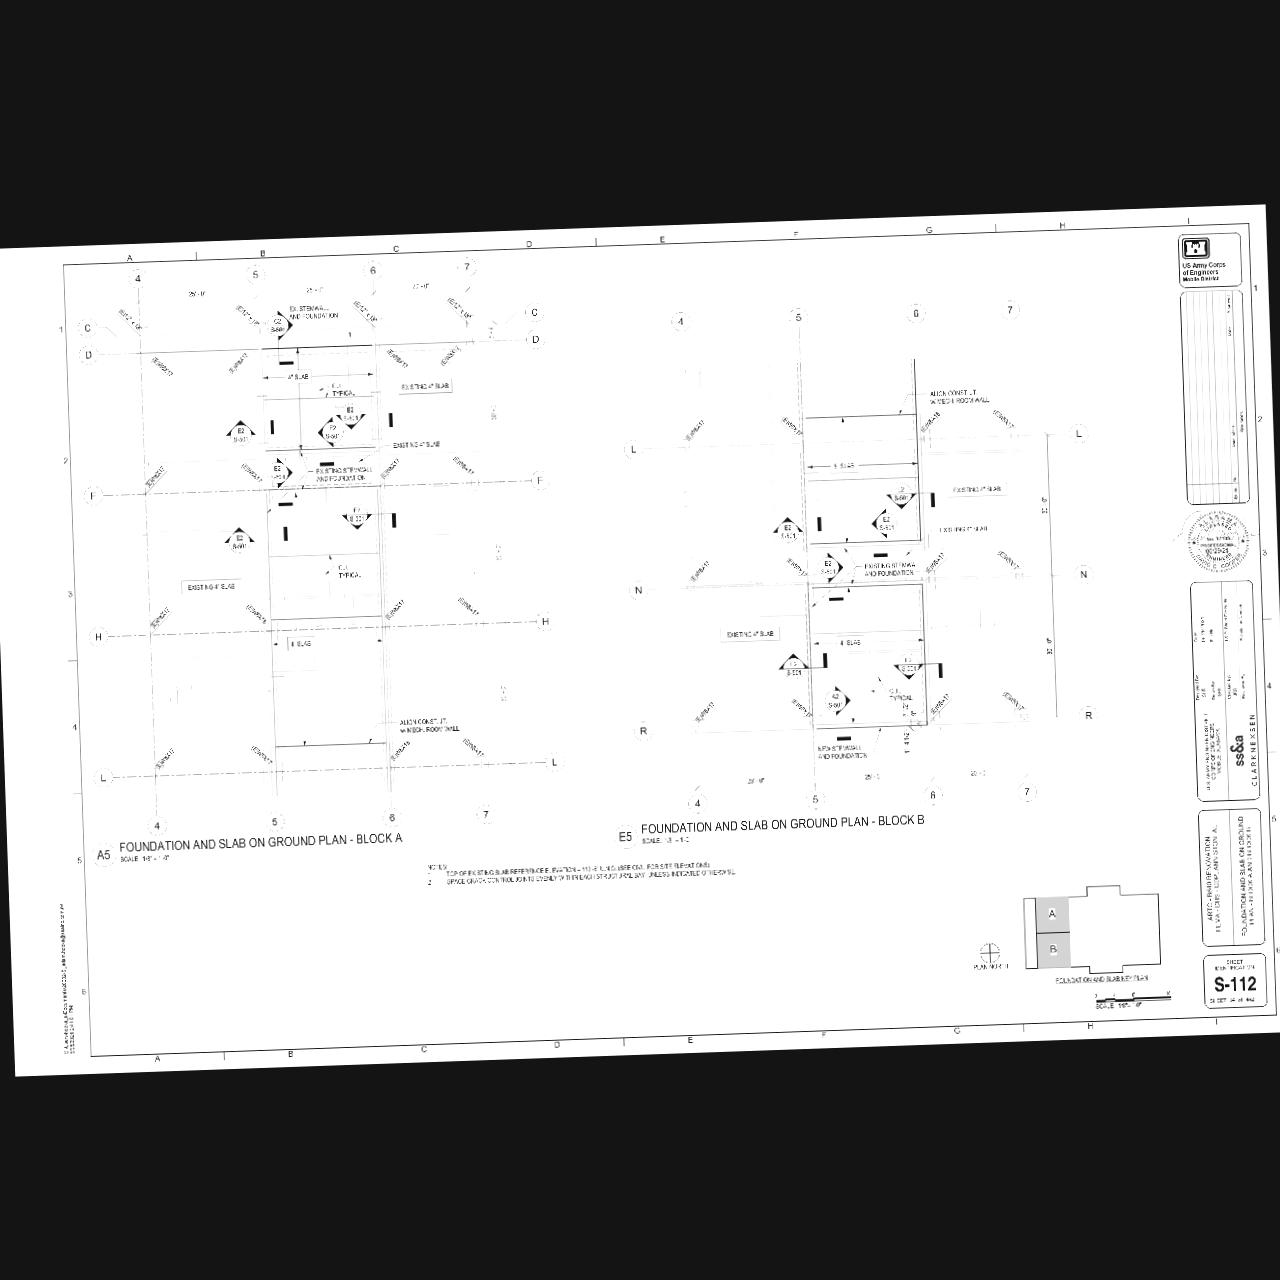elevation: (338, 502, 377, 532), (264, 307, 298, 342), (884, 479, 920, 512), (222, 524, 259, 556), (332, 401, 370, 431), (821, 682, 855, 716), (892, 651, 928, 682), (312, 415, 345, 449), (813, 551, 845, 586), (769, 515, 804, 546), (225, 416, 257, 449), (870, 508, 900, 542), (776, 651, 810, 681), (265, 456, 295, 490)
title: (606, 803, 1103, 852), (88, 823, 558, 871)
